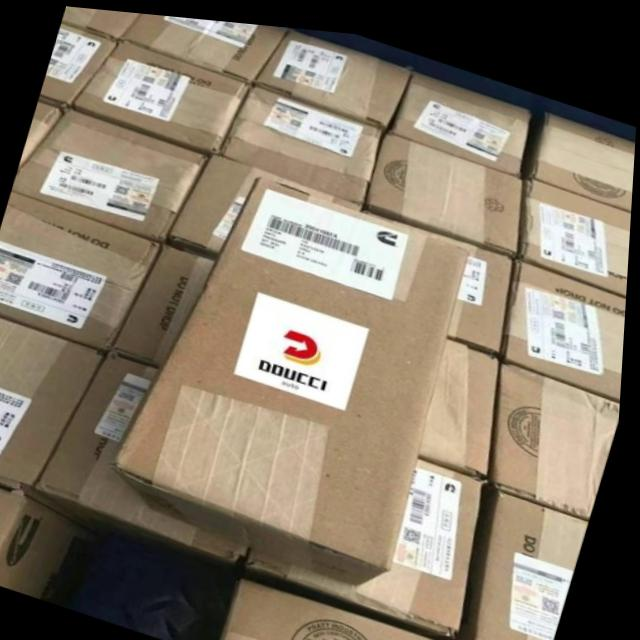box: (116, 170, 471, 579), (41, 351, 256, 561), (252, 448, 490, 629), (0, 190, 165, 351), (13, 105, 211, 238), (462, 474, 595, 640), (367, 202, 516, 347), (169, 148, 365, 257), (71, 37, 251, 151), (0, 313, 112, 496), (497, 349, 624, 508), (219, 78, 383, 197), (368, 123, 522, 246), (507, 247, 629, 389), (251, 22, 413, 122), (227, 572, 455, 640), (392, 61, 532, 166), (114, 239, 218, 365), (0, 484, 107, 604), (525, 169, 633, 285), (423, 327, 505, 468), (121, 11, 288, 78), (533, 98, 636, 198), (39, 21, 118, 110), (18, 98, 67, 173), (63, 5, 139, 38)
